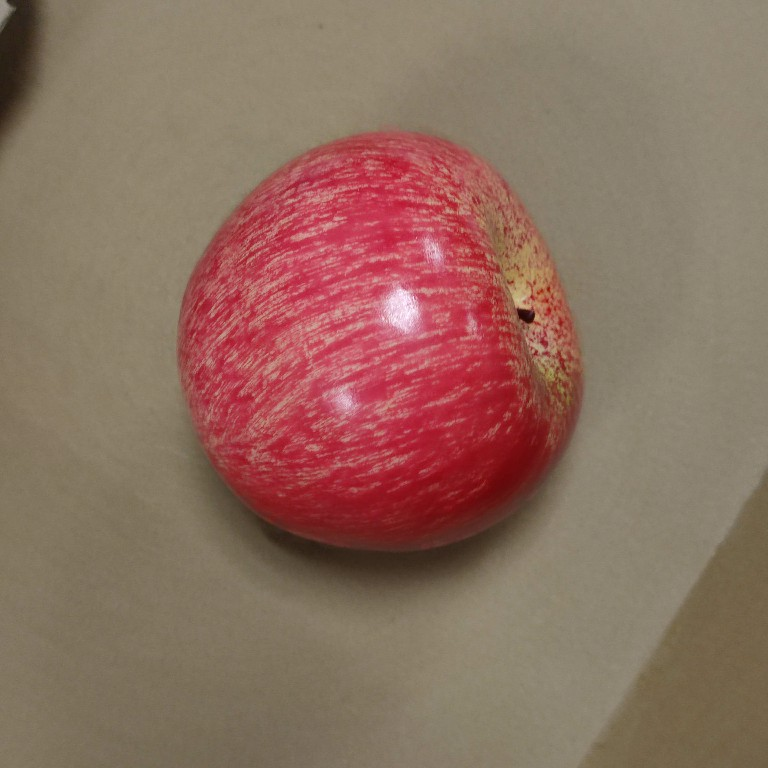fruit_apple: (171, 122, 593, 573)
